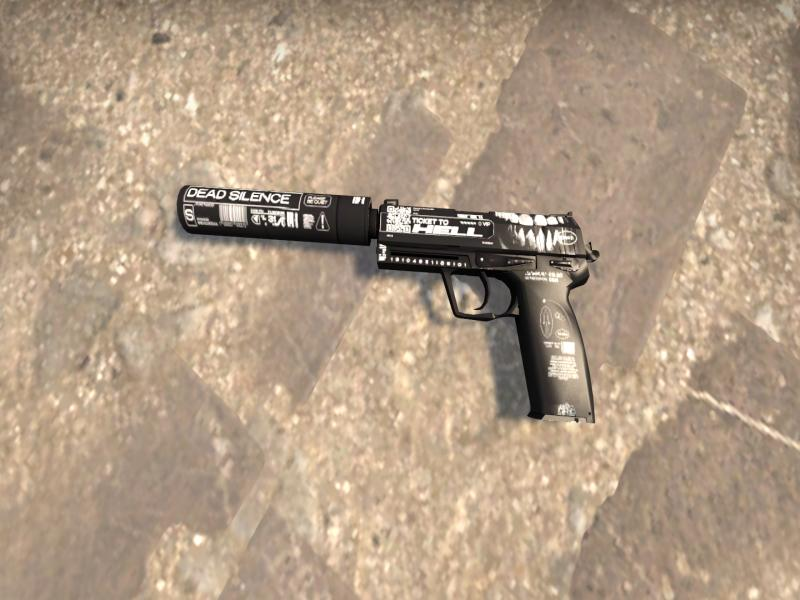USP: (177, 184, 598, 423)
